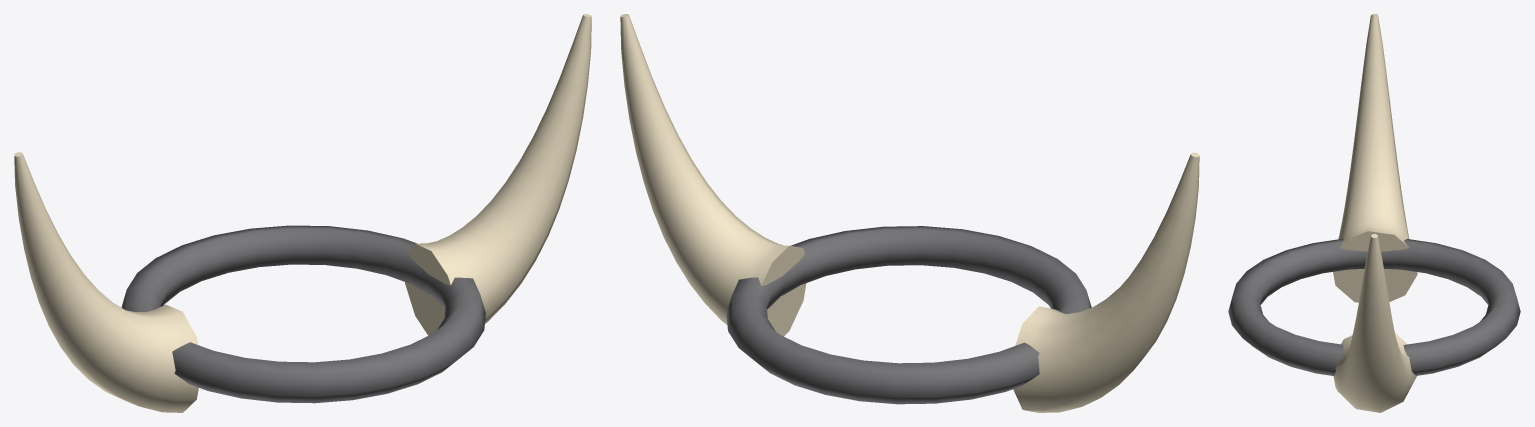
File: Kit_Deco_Horns.glb
3 views of the same model, side by side, from view 1: azimuth 30°, elevation 25°; view 2: azimuth 150°, elevation 25°; view 3: azimuth 270°, elevation 25° (orthographic). The views are drawn at different scales.
Parts seen in each view (by area): view 1: Kit_Deco_Horns; view 2: Kit_Deco_Horns; view 3: Kit_Deco_Horns.
Part boxes in pixels (left/top/right/bottom): Kit_Deco_Horns: left=14, top=14, right=591, bottom=412; Kit_Deco_Horns: left=620, top=14, right=1199, bottom=412; Kit_Deco_Horns: left=1228, top=14, right=1520, bottom=412.
Size of the model in its own units: 0.4481 by 0.217 by 0.247.
